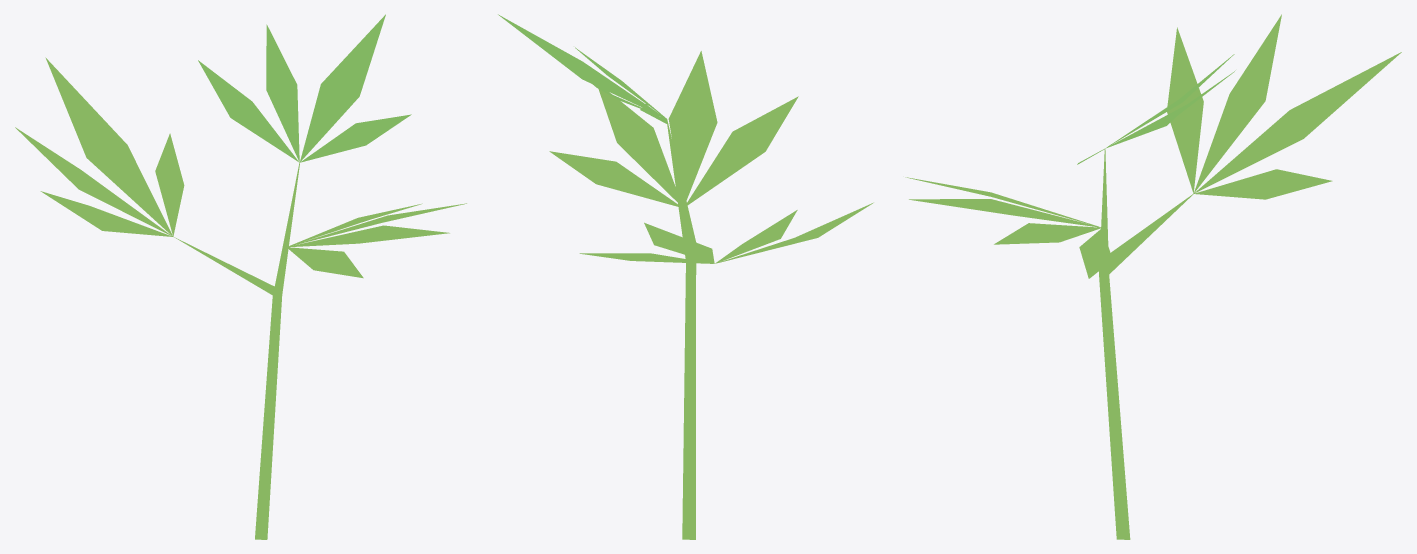
File: Plant_i_TwoS_07.fbx
3 views of the same model, side by side, from view 1: azimuth 30°, elevation 25°; view 2: azimuth 150°, elevation 25°; view 3: azimuth 270°, elevation 25° (orthographic). The views are drawn at different scales.
Visible parts, largest first — view 1: Plant_i_TwoS_07; view 2: Plant_i_TwoS_07; view 3: Plant_i_TwoS_07.
Boxes of the visible parts, x1,y1,x2,y2 form: Plant_i_TwoS_07: [15, 14, 466, 539]; Plant_i_TwoS_07: [498, 14, 873, 539]; Plant_i_TwoS_07: [905, 14, 1401, 539].
Bounding box in the file's own units: 0.6107 × 0.7854 × 0.7025.
